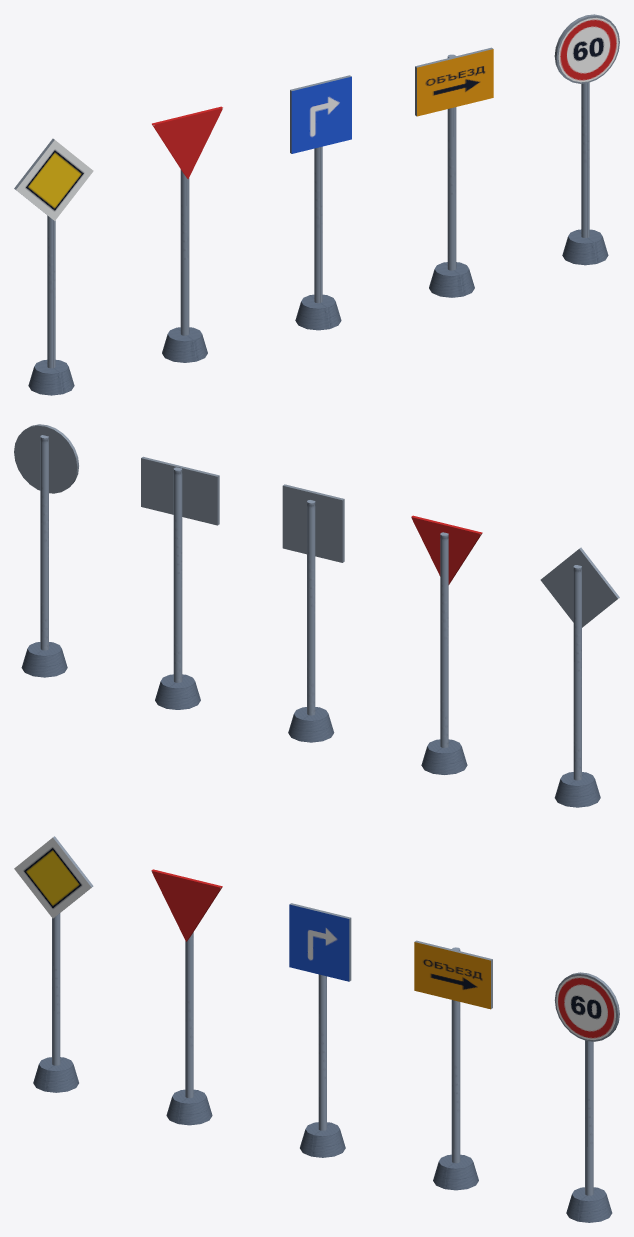
File: road_signs_set.glb
3 renders of one model, top to bottom at view 1: azimuth 30°, elevation 25°; view 2: azimuth 150°, elevation 25°; view 3: azimuth 330°, elevation 25°, orthographic.
Parts seen in each view (by area): view 1: road_signs_set; view 2: road_signs_set; view 3: road_signs_set.
Part boxes in pixels (x1,y1,x2,y2): road_signs_set: [14, 14, 619, 395]; road_signs_set: [14, 424, 619, 807]; road_signs_set: [14, 836, 619, 1222].
Size of the model in its own units: 7.25 by 2.85 by 0.48.
Materials: 8 (7 with a texture image).
